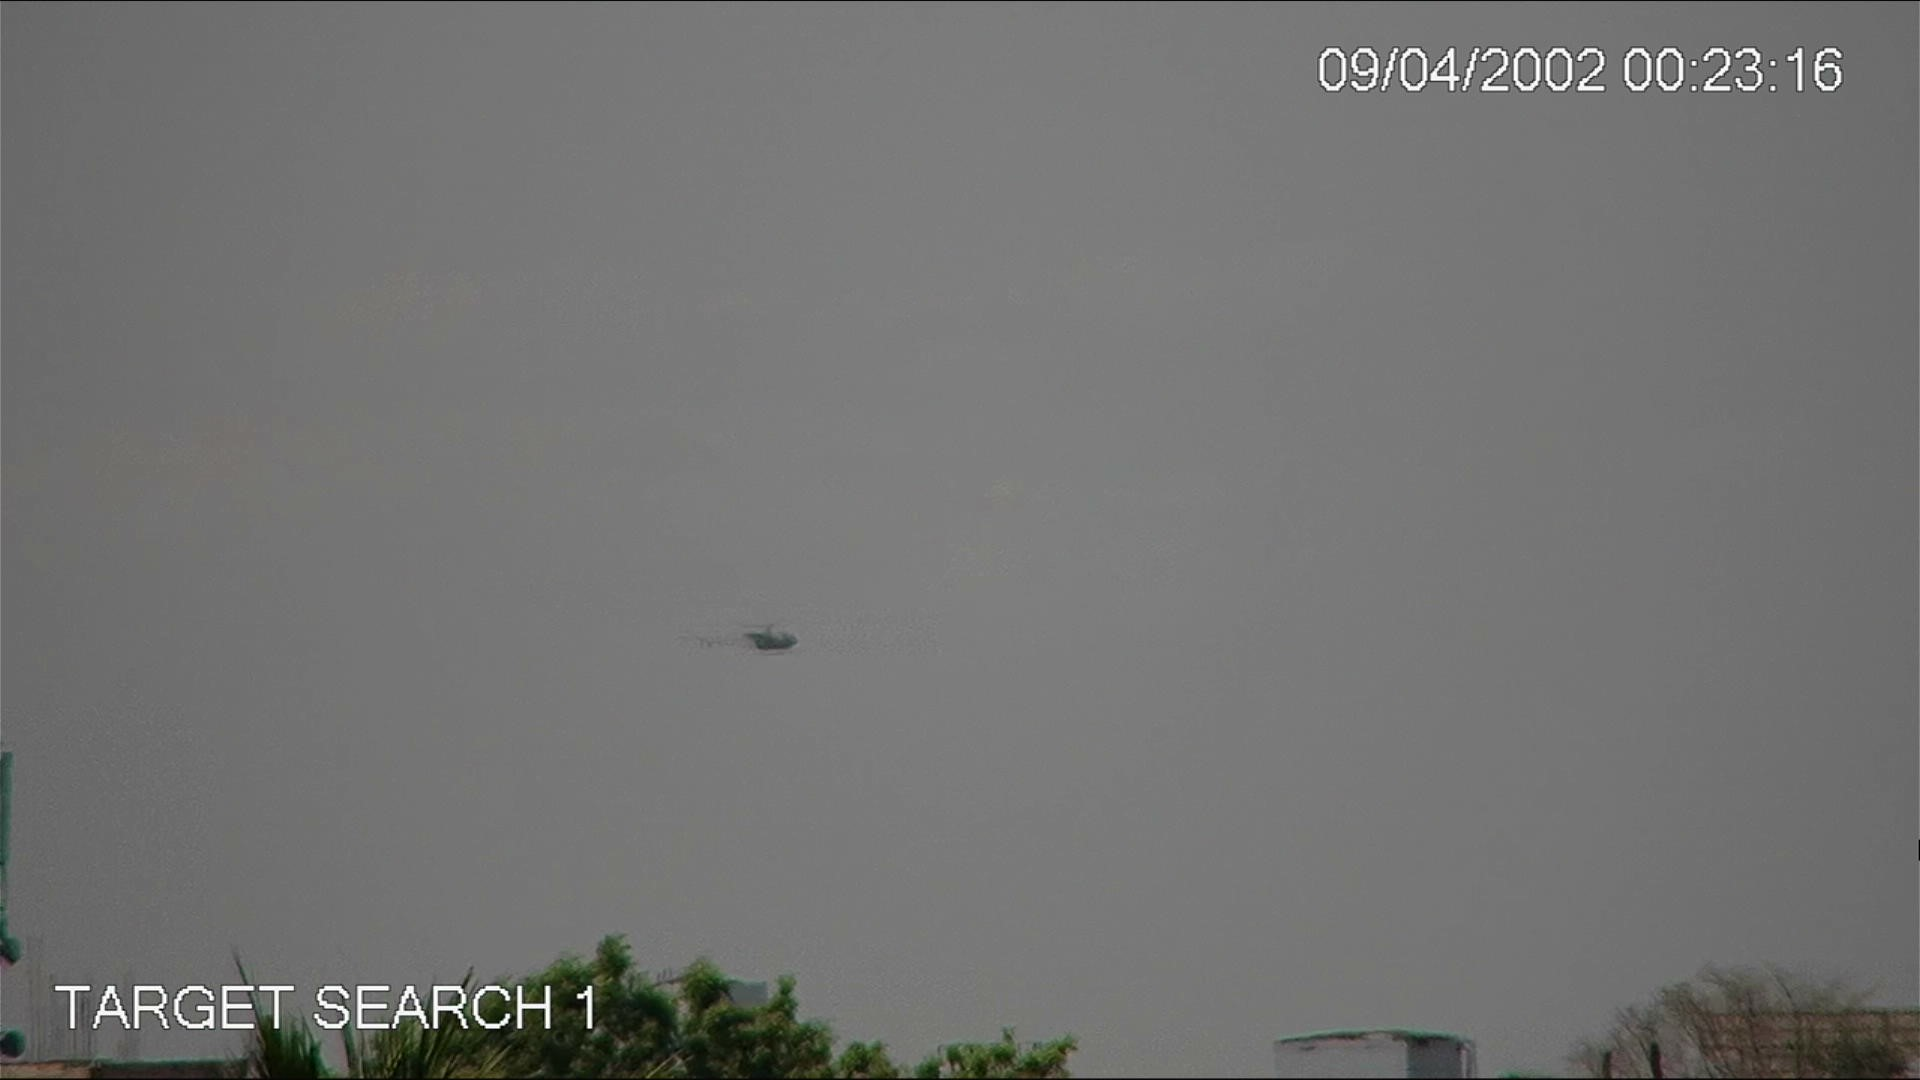SU_30: (688, 615, 806, 665)
